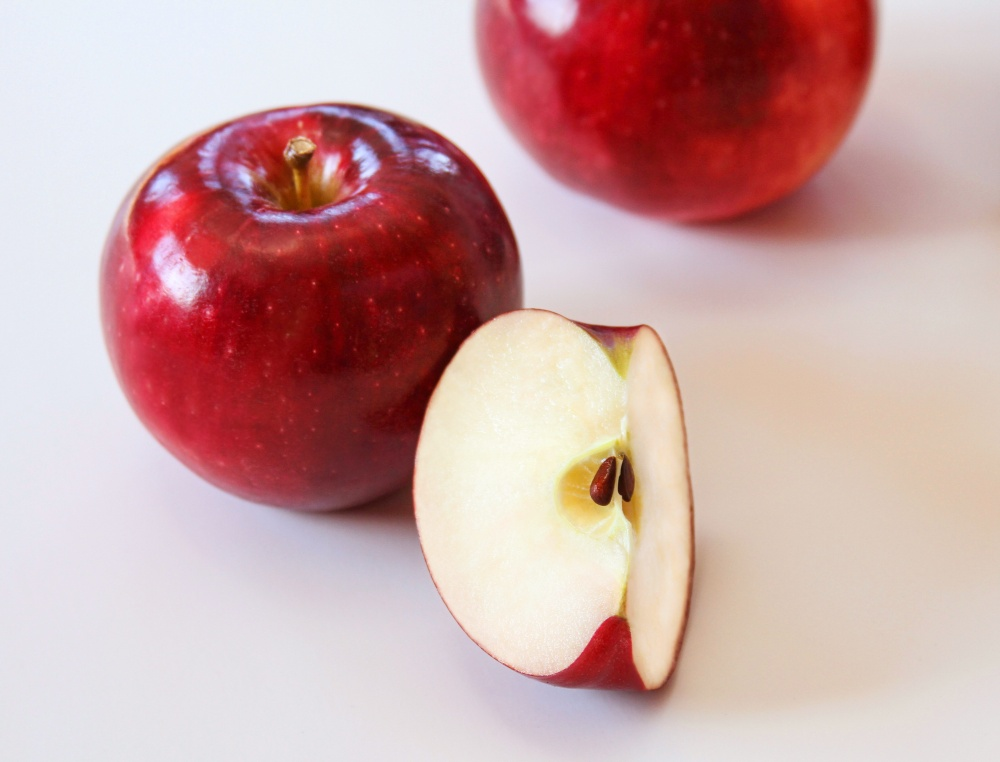apple: (107, 103, 525, 511)
